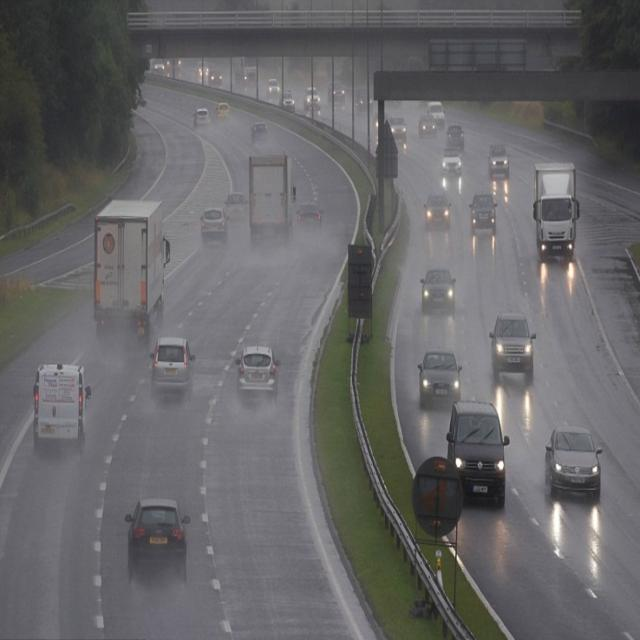bus: (95, 200, 167, 342), (533, 162, 579, 264), (249, 154, 295, 250), (232, 57, 260, 87)
car: (447, 400, 508, 506), (34, 365, 90, 456), (545, 426, 602, 498), (128, 499, 184, 564), (489, 313, 536, 382), (418, 350, 462, 408), (151, 336, 190, 390), (237, 346, 278, 392), (419, 267, 456, 316), (469, 191, 497, 236), (423, 190, 451, 231), (295, 200, 326, 232), (200, 209, 227, 242), (486, 143, 509, 178), (225, 194, 248, 224), (439, 148, 463, 175), (388, 114, 407, 144), (444, 125, 466, 150), (303, 85, 322, 112), (355, 86, 373, 113), (425, 100, 445, 124), (418, 112, 436, 138), (328, 80, 345, 104), (191, 107, 211, 127), (250, 122, 269, 140), (213, 102, 231, 121), (278, 89, 294, 109), (266, 77, 280, 98), (207, 69, 223, 86), (372, 112, 384, 133)
